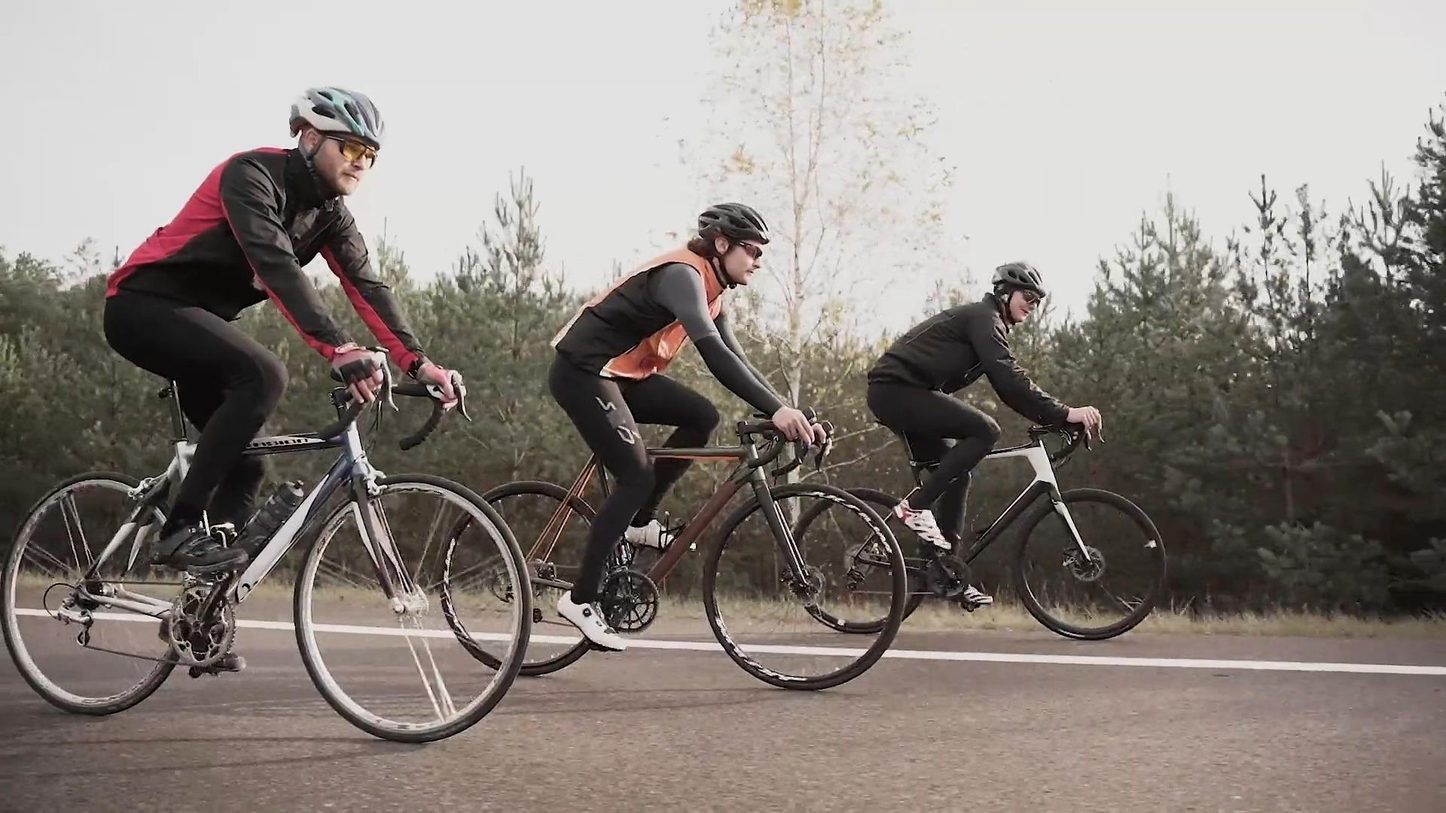bicyclist: (0, 86, 531, 745), (437, 200, 908, 692), (791, 260, 1168, 643)
helmet: (289, 86, 384, 195), (699, 202, 772, 290), (991, 261, 1047, 326)
